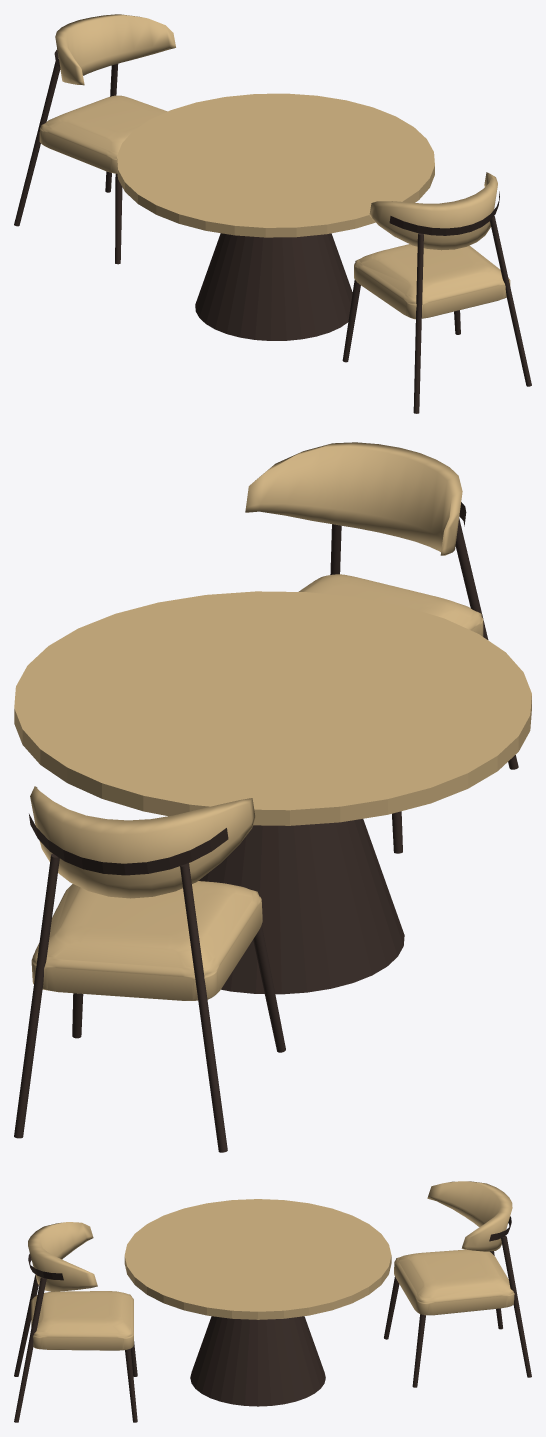
The model's file is TableChair.glb.
The picture shows the model from 3 angles, top to bottom: view 1: azimuth 30°, elevation 25°; view 2: azimuth 150°, elevation 25°; view 3: azimuth 270°, elevation 25°; orthographic projection. The views are drawn at different scales.
Visible parts, largest first — view 1: Circle, Circle.001, Cube, Circle.005, Cube.001, Circle.003, Cylinder, Cylinder.001, Circle.002; view 2: Circle, Circle.001, Cube.001, Circle.003, Circle.005, Cylinder.001, Cube, Circle.004, Cylinder; view 3: Circle, Circle.001, Cube.001, Cube, Circle.005, Circle.003, Cylinder, Cylinder.001.
Boxes of the visible parts, x1,y1,x2,y2 form: Circle: (117, 93, 434, 237); Circle.001: (195, 233, 352, 340); Cube: (354, 244, 510, 319); Circle.005: (55, 14, 175, 85); Cube.001: (39, 95, 167, 173); Circle.003: (369, 172, 497, 250); Cylinder: (342, 216, 531, 413); Cylinder.001: (14, 61, 122, 264); Circle.002: (389, 191, 499, 235); Circle: (14, 591, 531, 825); Circle.001: (198, 819, 404, 994); Cube.001: (31, 881, 262, 1000); Circle.003: (245, 442, 462, 555); Circle.005: (30, 786, 255, 898); Cylinder.001: (14, 853, 285, 1152); Cube: (298, 574, 483, 636); Circle.004: (29, 814, 228, 875); Cylinder: (330, 518, 518, 853); Circle: (124, 1199, 391, 1319); Circle.001: (190, 1316, 325, 1406); Cube.001: (394, 1249, 514, 1315); Cube: (31, 1291, 133, 1350); Circle.005: (427, 1181, 512, 1251); Circle.003: (28, 1222, 97, 1291); Cylinder: (14, 1275, 137, 1422); Cylinder.001: (384, 1236, 531, 1387).
Size of what is drawn, in the model's own units: 2.12 by 1.44 by 4.12.
